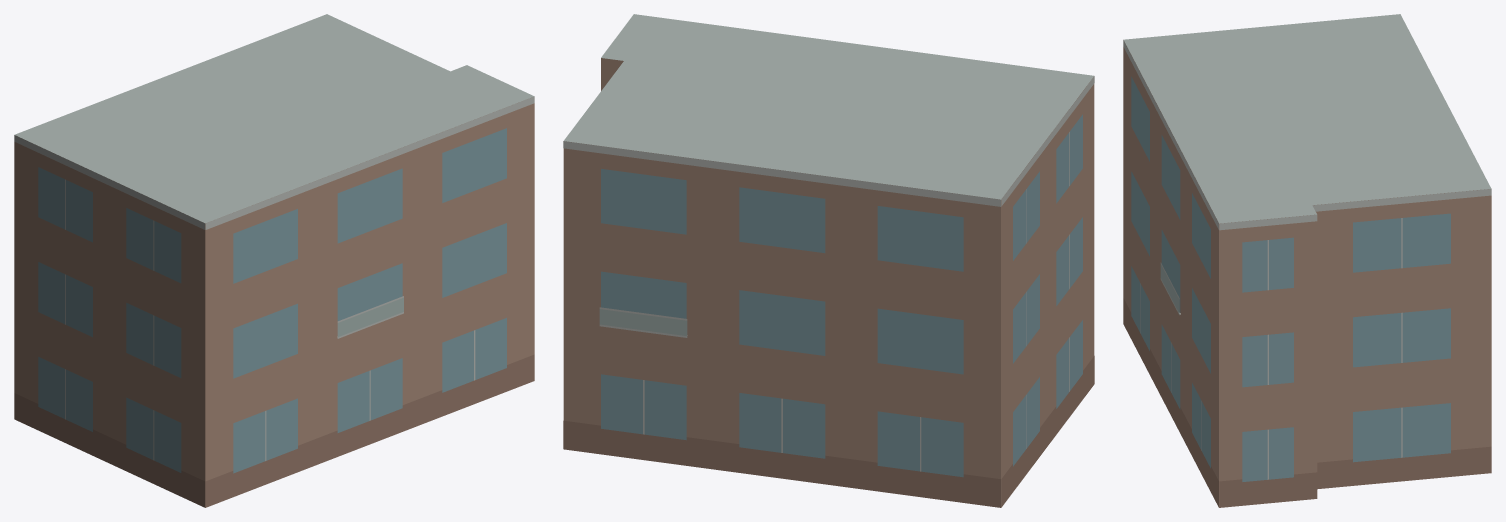
File: survey-upis-32867132.glb
The picture shows the model from 3 angles, left to right: view 1: azimuth 30°, elevation 25°; view 2: azimuth 150°, elevation 25°; view 3: azimuth 270°, elevation 25°; orthographic projection. The views are drawn at different scales.
Visible parts, largest first — view 1: survey-upis-32867132.tmp; view 2: survey-upis-32867132.tmp; view 3: survey-upis-32867132.tmp.
Part boxes in pixels (box(x1,y1,x2,y2)): survey-upis-32867132.tmp: box(14, 14, 534, 507); survey-upis-32867132.tmp: box(563, 14, 1094, 507); survey-upis-32867132.tmp: box(1123, 14, 1491, 507).
Size of the model in its own units: 16.13 by 10.2 by 11.98.
